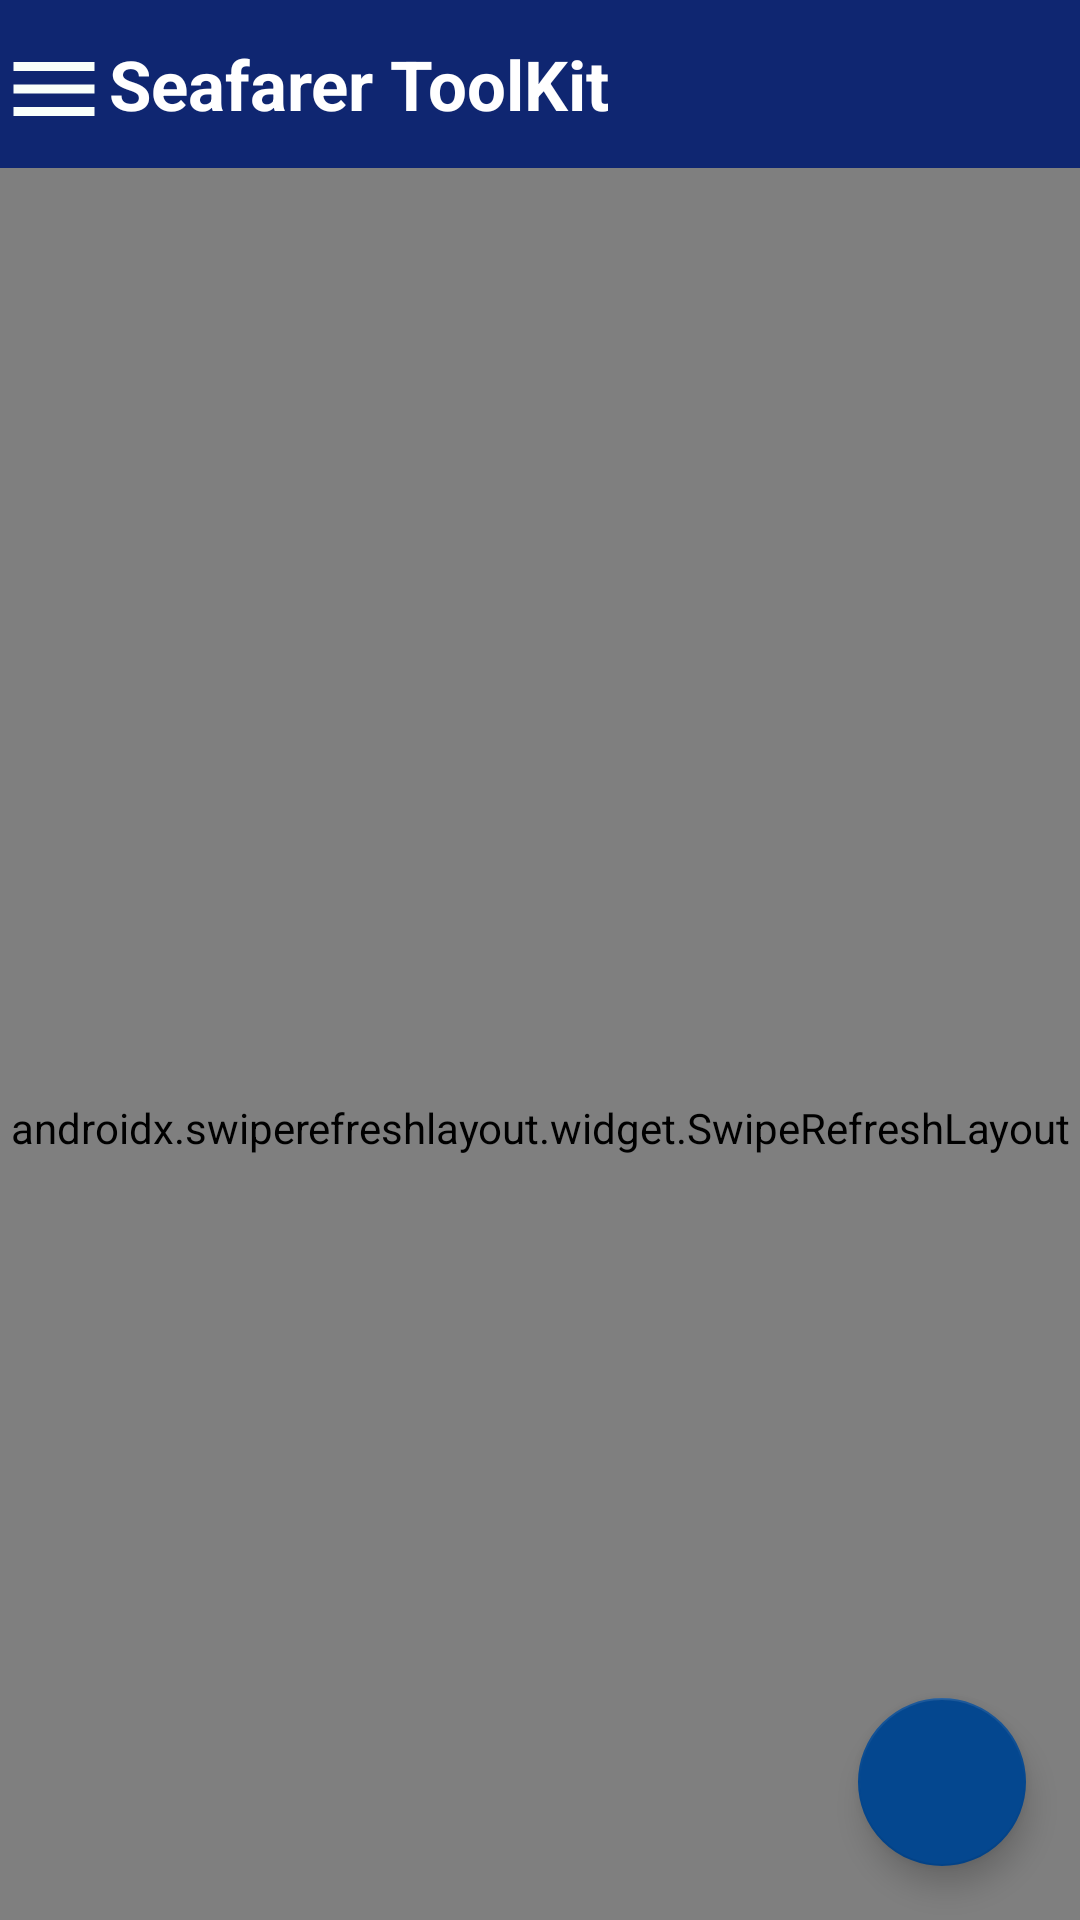

Icons on this 1080x1920 Android screen, each with the point to tap as (x,y):
menu: (54,89)
